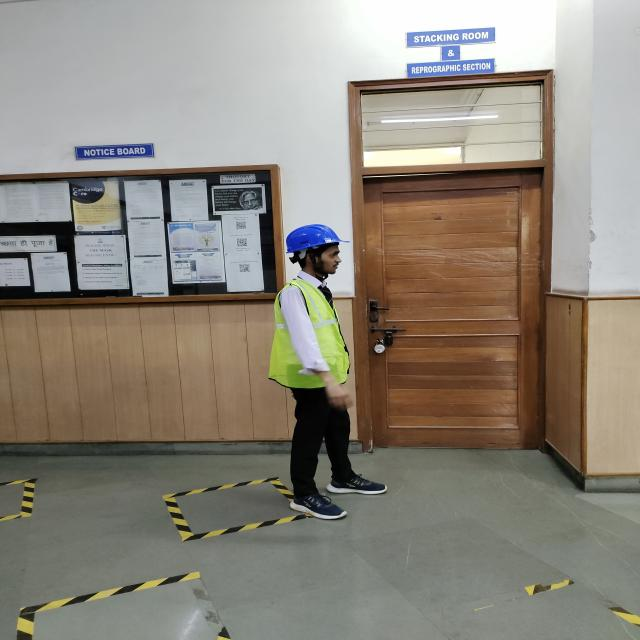safe: (268, 224, 351, 520)
